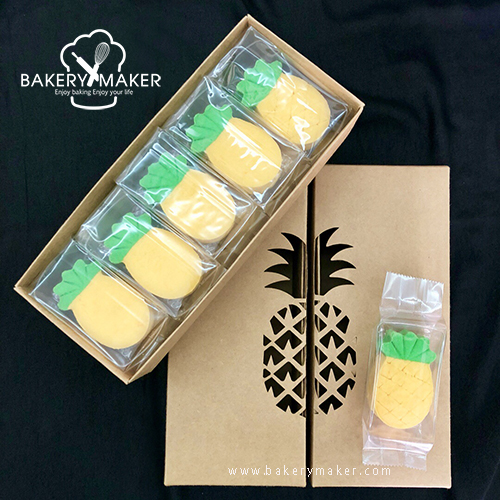Snack: (358, 265, 446, 475)
